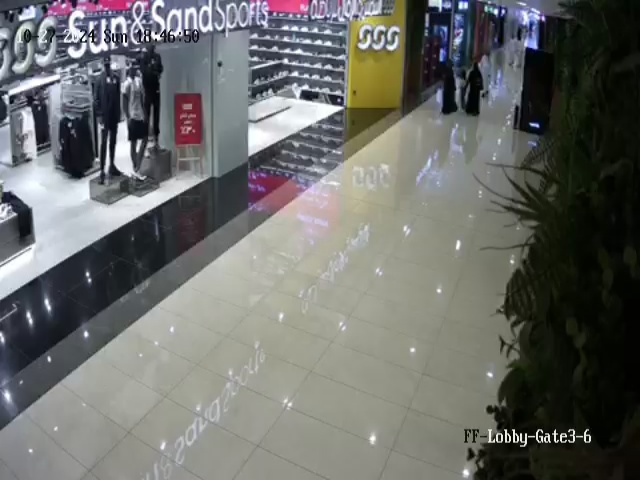female: (437, 57, 458, 115), (463, 60, 484, 117)
male: (482, 45, 500, 94), (505, 31, 516, 70), (519, 36, 529, 69)
other: (93, 57, 124, 181), (121, 65, 149, 179), (139, 42, 163, 138)
